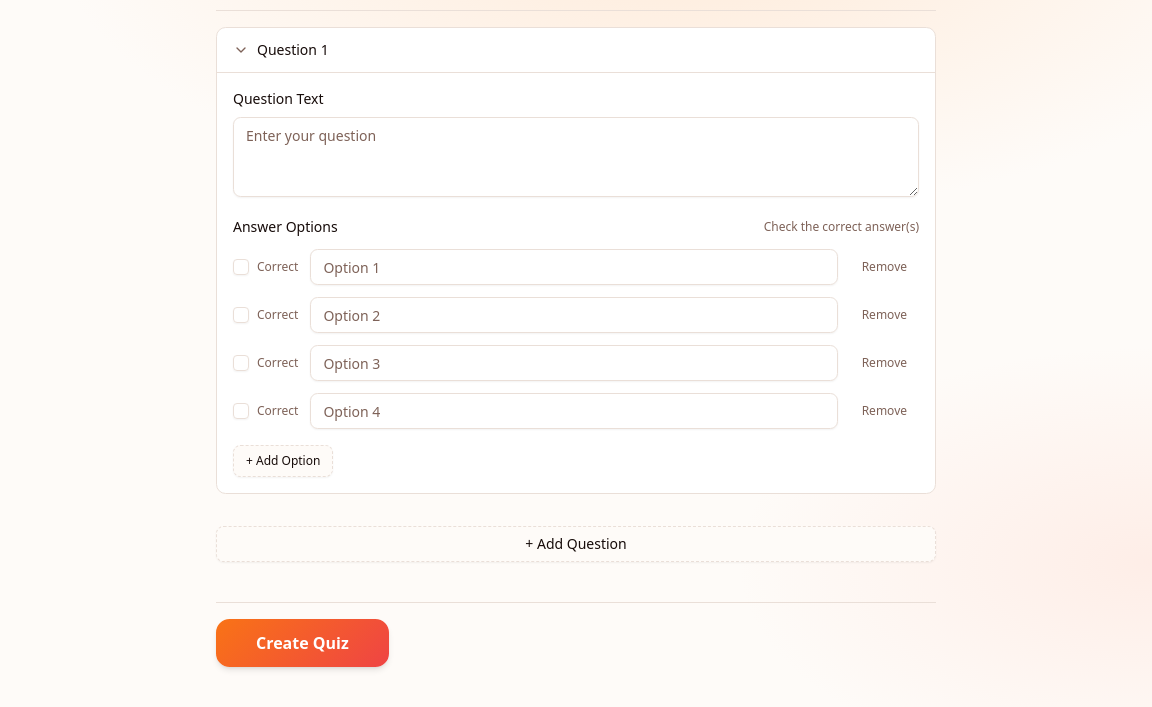
Test case: QuizForm › can add and remove questions
(page scrolled)
What coordinates should you click on to do the following:
click the button "+ Add Question"
I would click on:
 (576, 544)
Its box is [216,526,936,562].
(page scrolled)
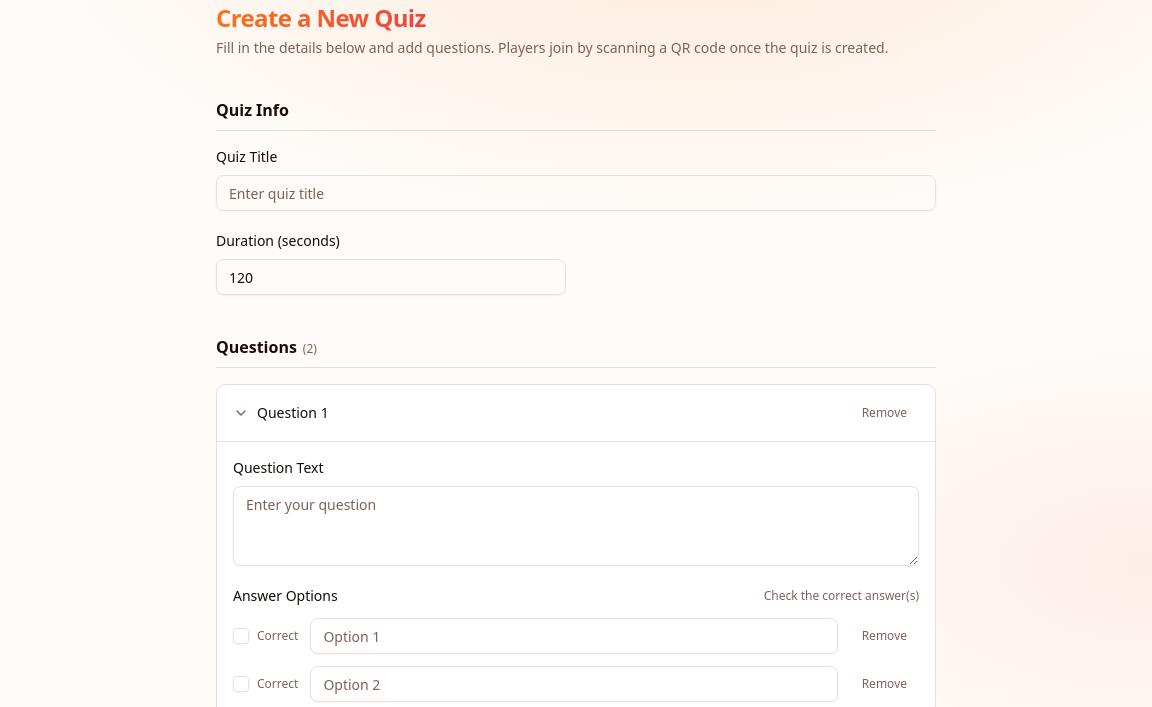
Check: the heading "Questions(2)" is shown, box [216,335,317,359]
